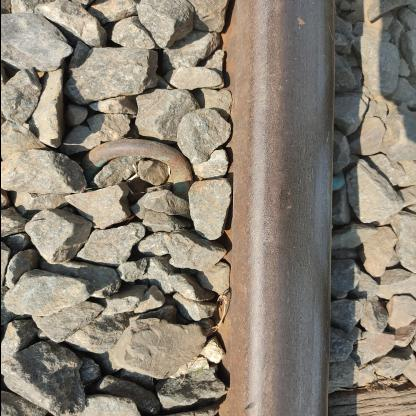Non Defective 1: (198, 200, 350, 292)
